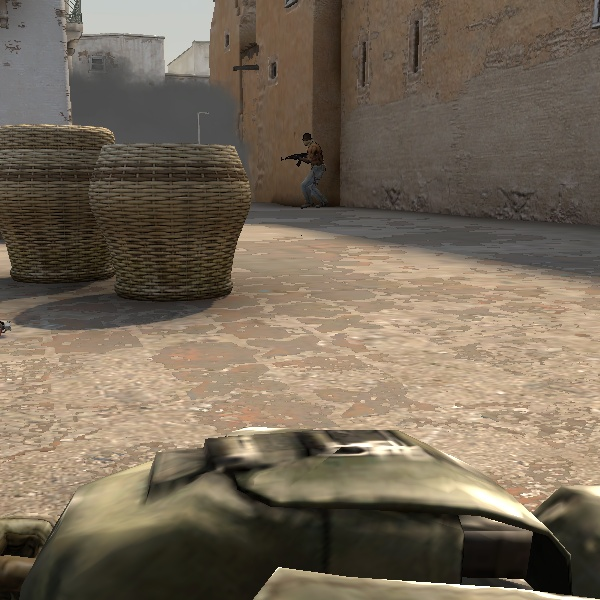t_body: (294, 132, 326, 208)
t_head: (302, 133, 312, 146)
